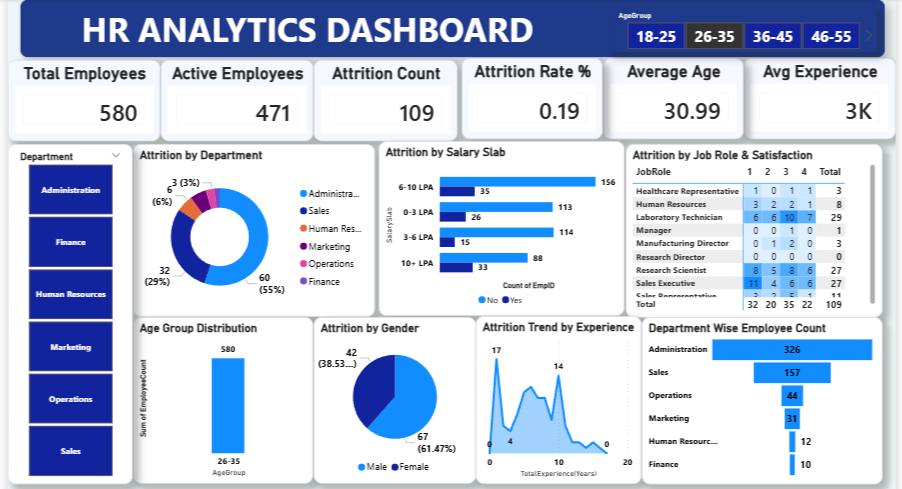

This screenshot's page, from the dashboard's own definition file:
{"tool":"powerbi","page":{"name":"Page 1","canvas":[1280,720],"ordinal":0},"visuals":[{"type":"textbox","box":[17.3,0,1247,85],"z":0},{"type":"cardVisual","title":"Total Employees","fields":{"Data":["CountNonNull(HR_Analytics-4.EmpID)"]},"box":[16.8,87.3,203.3,117.6],"z":1000},{"type":"cardVisual","title":"Active Employees","fields":{"Data":["Sum(HR_Analytics-4.EmployeeCount)"]},"box":[220.1,87.3,210,117],"z":2000},{"type":"cardVisual","title":"Attrition Count","fields":{"Data":["Sum(HR_Analytics-4.AttritionCount)"]},"box":[433.4,87.3,203,117.6],"z":3000},{"type":"cardVisual","title":"Avg Experience","fields":{"Data":["Sum(HR_Analytics-4.YearsatCompany)"]},"box":[1041.5,87.3,218.4,117.6],"z":4000},{"type":"cardVisual","title":"Average  Age","fields":{"Data":["Avg(HR_Analytics-4.Age)"]},"box":[838.1,86.4,203,116.6],"z":5000},{"type":"cardVisual","title":"Attrition Rate %","fields":{"Data":["HR_Analytics-4.Attrition Rate %"]},"box":[635,85,203,116.6],"z":6000},{"type":"donutChart","title":"Attrition by Department","fields":{"Category":["HR_Analytics-4.Department"],"Y":["Sum(HR_Analytics-4.AttritionCount)"]},"box":[179.7,208.3,349.4,248.6],"z":7000},{"type":"clusteredBarChart","title":"Attrition by Salary Slab","fields":{"Category":["HR_Analytics-4.SalarySlab"],"Y":["CountNonNull(HR_Analytics-4.EmpID)"],"Series":["HR_Analytics-4.Attrition"]},"box":[534.2,204.9,354.4,252],"z":8000},{"type":"pivotTable","title":"Attrition by Job Role & Satisfaction","fields":{"Values":["Sum(HR_Analytics-4.AttritionCount)"],"Rows":["HR_Analytics-4.JobRole"],"Columns":["HR_Analytics-4.JobSatisfaction"]},"box":[890.3,208.3,369.6,250.3],"z":9000},{"type":"columnChart","title":"Age Group Distribution","fields":{"Category":["HR_Analytics-4.AgeGroup"],"Y":["Sum(HR_Analytics-4.EmployeeCount)"]},"box":[179.7,458.6,260.4,240.2],"z":10000},{"type":"pieChart","title":"Attrition by Gender","fields":{"Category":["HR_Analytics-4.Gender"],"Y":["Sum(HR_Analytics-4.AttritionCount)"]},"box":[440.1,458.6,234,240.2],"z":11000},{"type":"areaChart","title":"Attrition Trend by Experience","fields":{"Category":["HR_Analytics-4.TotalExperience(Years)"],"Y2":["Sum(HR_Analytics-4.AttritionCount)"]},"box":[673.6,456.9,238.5,241.9],"z":12000},{"type":"slicer","fields":{"Values":["HR_Analytics-4.Department"]},"box":[0,208.8,180,489.6],"z":12001},{"type":"funnel","title":" Department Wise Employee Count","fields":{"Category":["HR_Analytics-4.Department"],"Y":["CountNonNull(HR_Analytics-4.EmpID)"]},"box":[913,458,347,241],"z":12002},{"type":"slicer","fields":{"Values":["HR_Analytics-4.AgeGroup"]},"box":[866.9,13,384.5,63.4],"z":12003}]}

Visuals, with their boxes on the page's 1280x720 design canvas (x1, y1, x2, y2). These are canvas units, not pixel positions in the 902x489 screenshot, which may show the page scaled, cropped or inside an application window:
textbox: (17,0,1264,85)
"Total Employees" cardVisual: (17,87,220,205)
"Active Employees" cardVisual: (220,87,430,204)
"Attrition Count" cardVisual: (433,87,636,205)
"Avg Experience" cardVisual: (1042,87,1260,205)
"Average  Age" cardVisual: (838,86,1041,203)
"Attrition Rate %" cardVisual: (635,85,838,202)
"Attrition by Department" donutChart: (180,208,529,457)
"Attrition by Salary Slab" clusteredBarChart: (534,205,889,457)
"Attrition by Job Role & Satisfaction" pivotTable: (890,208,1260,459)
"Age Group Distribution" columnChart: (180,459,440,699)
"Attrition by Gender" pieChart: (440,459,674,699)
"Attrition Trend by Experience" areaChart: (674,457,912,699)
slicer - HR_Analytics-4.Department: (0,209,180,698)
" Department Wise Employee Count" funnel: (913,458,1260,699)
slicer - HR_Analytics-4.AgeGroup: (867,13,1251,76)
